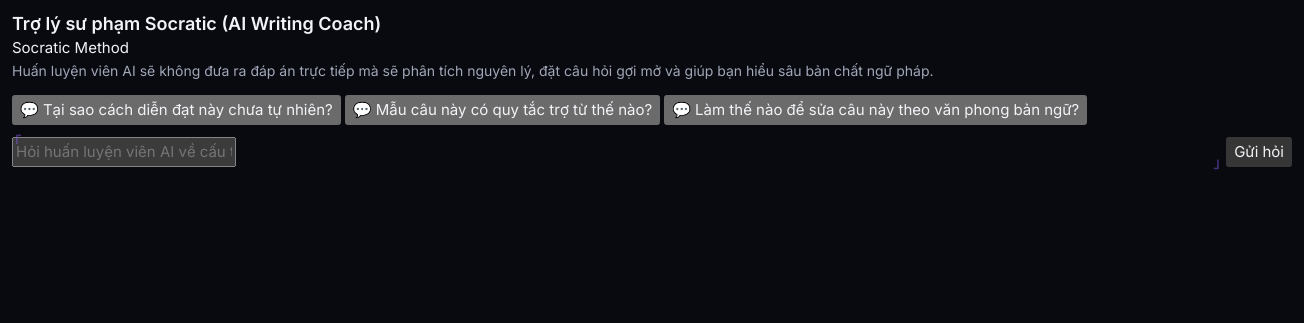
Test: SocraticCoachPane › renders socratic coach panel and allows asking questions
Expected: the text "Trợ lý sư phạm Socratic (AI Writing Coach)" is shown, [12, 13, 381, 34]
Type "Mẫu câu này có quy tắc gì?" into the field labelled "Hỏi huấn luyện viên AI về cấu trúc hoặc cách diễn đạt...".
click(124, 152); type("Mẫu câu này có quy tắc gì?")  # box [12, 137, 236, 167]
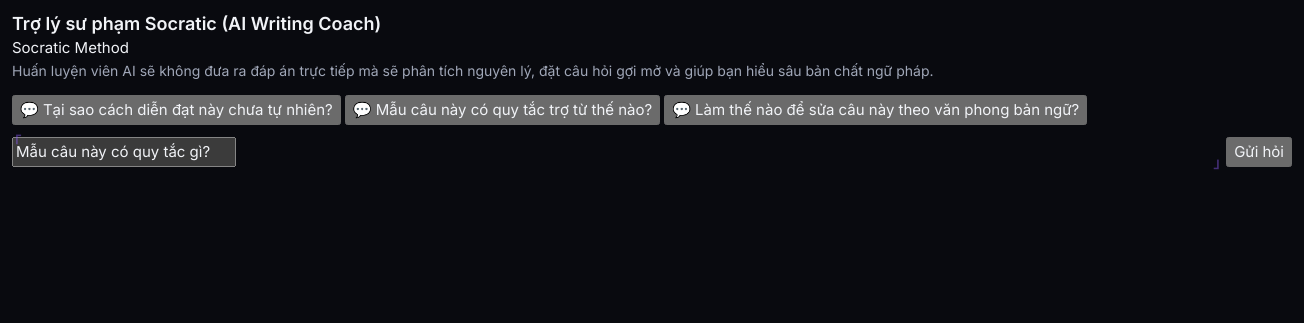
Click the button with aria-label "Gửi câu hỏi".
click(1259, 152)  # box [1226, 137, 1292, 167]
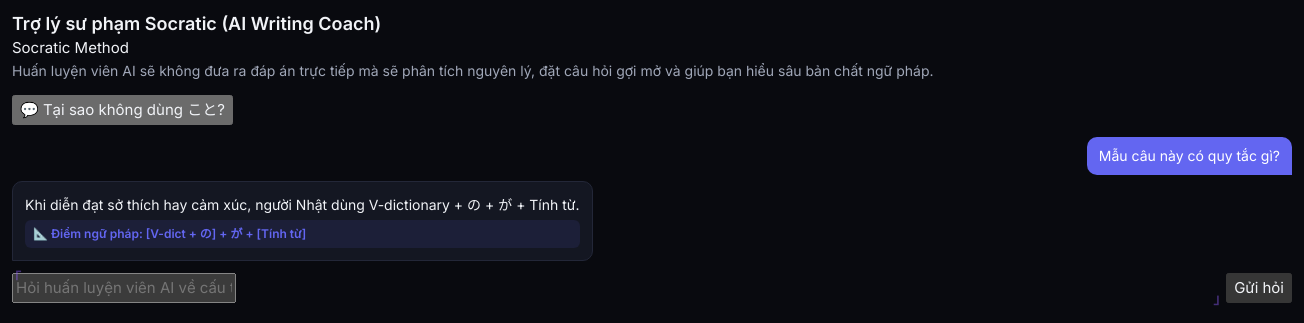
Expected: the text "Khi diễn đạt sở thích hay cảm xúc" is shown, [25, 196, 580, 213]
Expected: the text "📐 Điểm ngữ pháp: [V-dict + の] + が + [Tính từ]" is shown, [25, 220, 580, 248]
